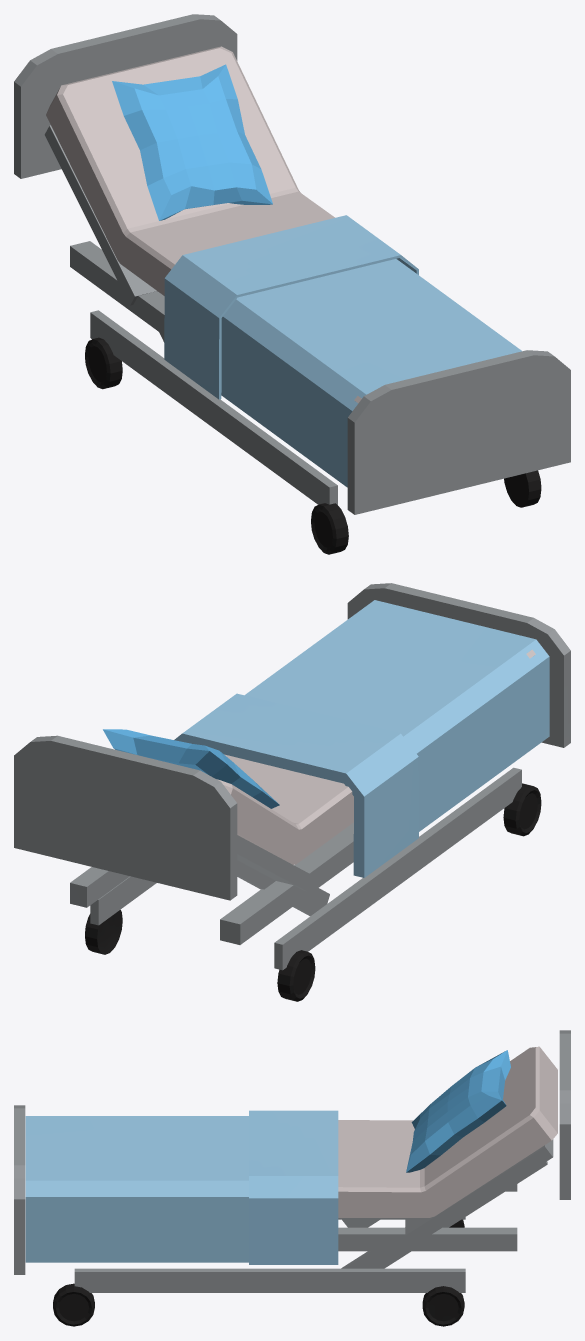
File: bed1.fbx
3 renders of one model, top to bottom at view 1: azimuth 30°, elevation 25°; view 2: azimuth 150°, elevation 25°; view 3: azimuth 270°, elevation 25°, orthographic. The views are drawn at different scales.
Visible parts, largest first — view 1: MSH_Bed1; view 2: MSH_Bed1; view 3: MSH_Bed1.
Boxes of the visible parts, x1,y1,x2,y2 form: MSH_Bed1: (14,14,570,554); MSH_Bed1: (14,583,570,1001); MSH_Bed1: (14,1030,570,1326).
Size of the model in its own units: 7.19 by 8.7 by 19.63.
